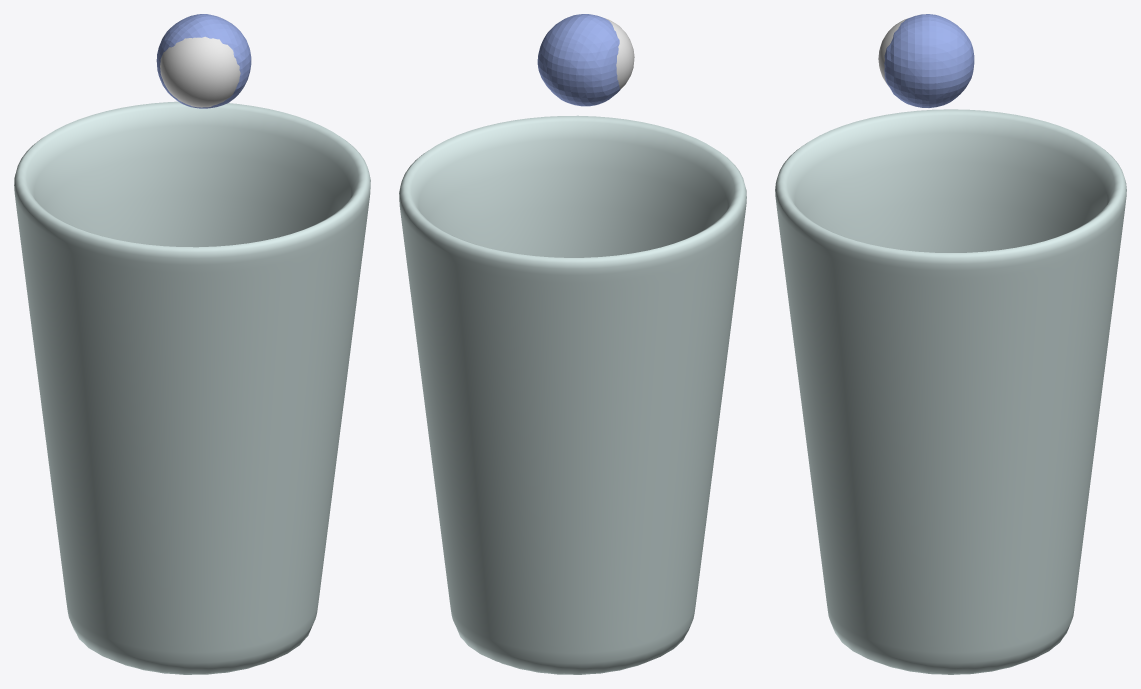
File: GinFall.glb
3 renders of one model, left to right at view 1: azimuth 30°, elevation 25°; view 2: azimuth 150°, elevation 25°; view 3: azimuth 270°, elevation 25°, orthographic. The views are drawn at different scales.
Visible parts, largest first — view 1: Circle, Sphere, Cube; view 2: Circle, Cube, Sphere; view 3: Circle, Cube.
Part boxes in pixels (bbox=[...]): Circle: bbox=[14, 101, 370, 674]; Sphere: bbox=[160, 36, 240, 107]; Cube: bbox=[156, 14, 251, 108]; Circle: bbox=[399, 115, 746, 674]; Cube: bbox=[537, 14, 620, 106]; Sphere: bbox=[605, 18, 634, 88]; Circle: bbox=[775, 109, 1126, 674]; Cube: bbox=[884, 14, 974, 107].
Size of the model in its own units: 4.66 by 9.08 by 4.66.
